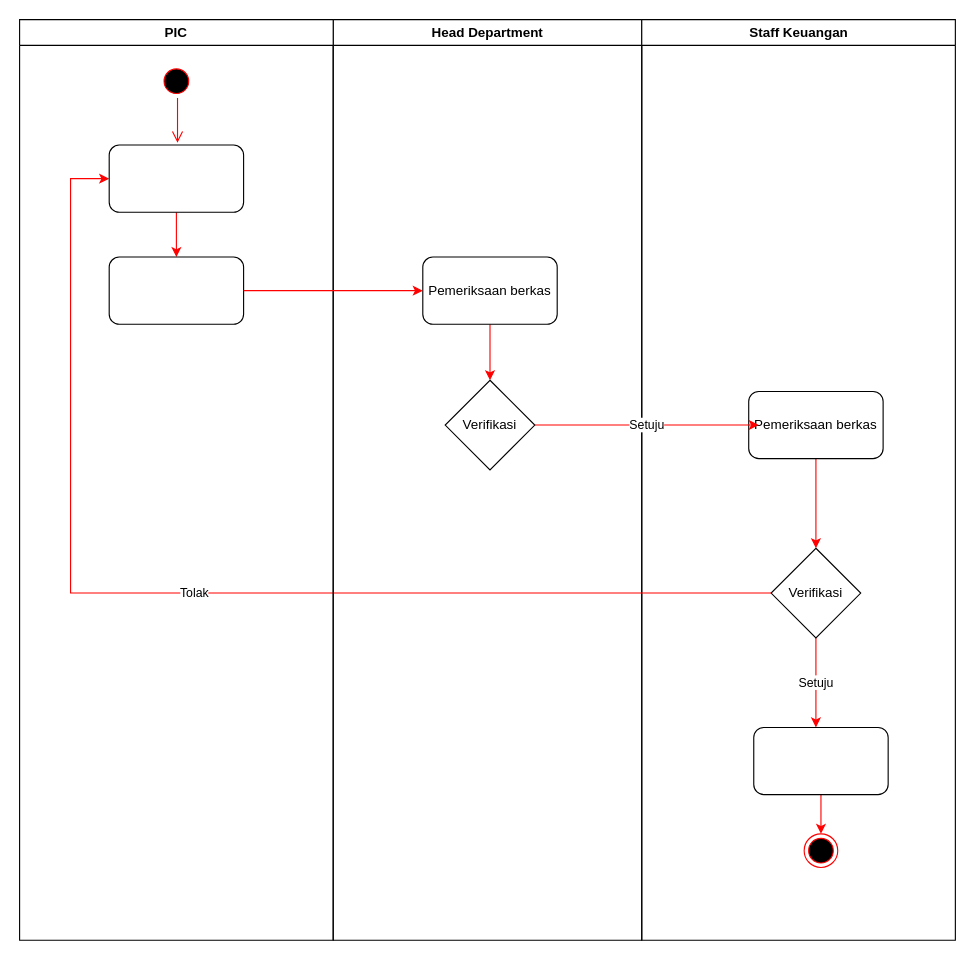
Image size: 976x960. Some labels were removed from this diagram. Here are the shapes that lost their labels. From the top down, the centre of each, then its label:
point 176,178: Mengisi submission form
point 176,290: Mengumpulkan laporan transaksi kegiatan
point 820,760: Memasukan submission fund ke dalam Log sales order
